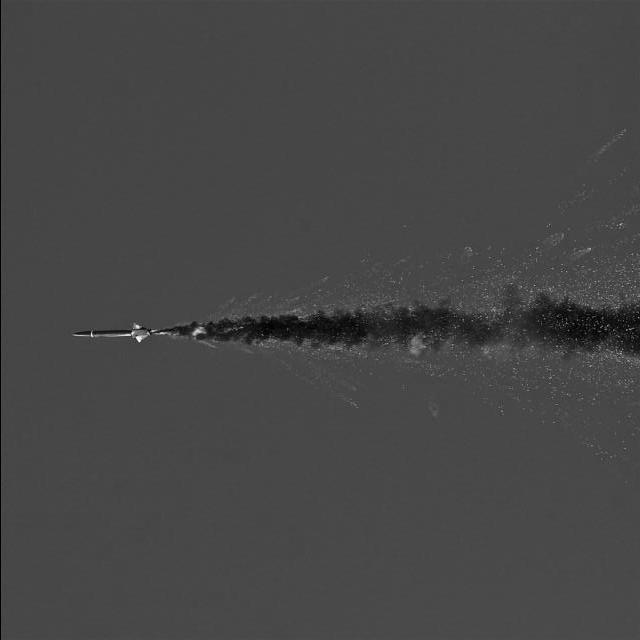missile: (68, 325, 154, 342)
